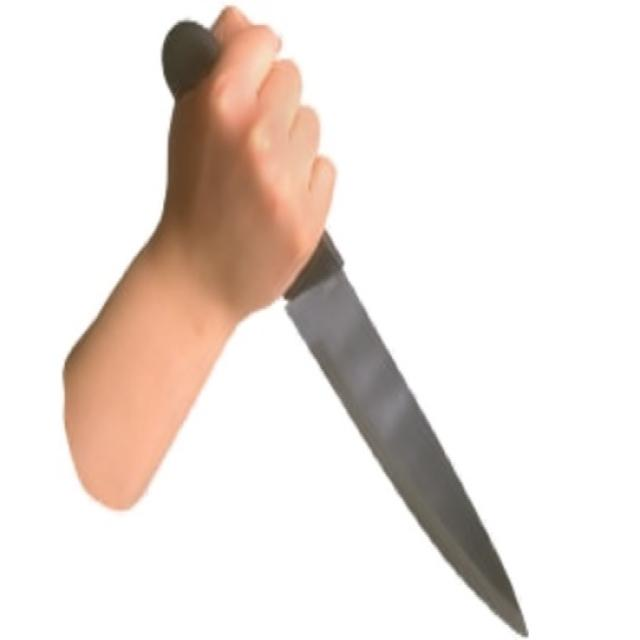knife: (161, 12, 554, 640)
